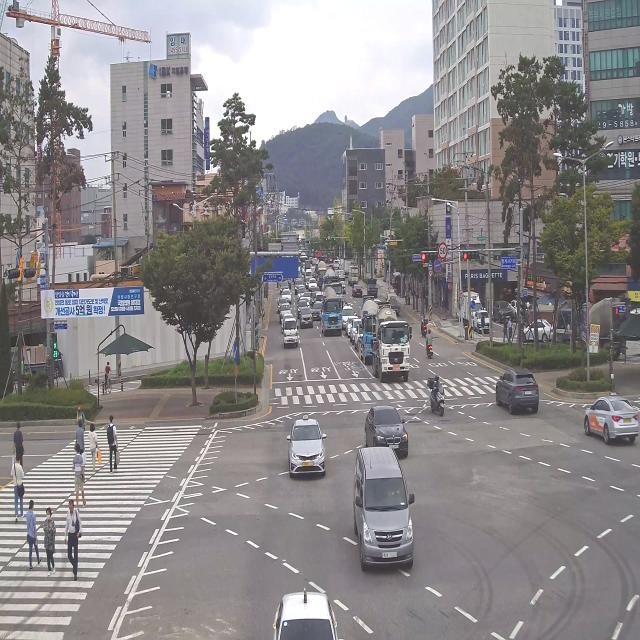Car: (346, 442, 420, 573), (263, 567, 349, 640), (350, 388, 414, 466), (588, 370, 640, 454), (283, 405, 334, 490), (496, 350, 542, 430), (522, 316, 554, 348), (296, 300, 315, 337), (491, 297, 513, 324), (473, 309, 493, 334), (509, 293, 526, 319), (350, 318, 363, 344), (346, 316, 360, 338), (341, 306, 355, 327), (280, 312, 294, 333), (354, 325, 364, 351), (311, 302, 323, 323), (350, 283, 363, 299), (280, 302, 292, 318), (281, 288, 293, 304), (299, 296, 310, 309), (315, 293, 326, 306), (308, 278, 318, 292), (305, 277, 315, 290), (278, 298, 288, 310), (302, 291, 312, 303), (312, 287, 322, 299), (280, 282, 289, 294), (296, 279, 304, 291), (338, 267, 346, 278), (332, 258, 339, 270), (284, 278, 292, 288), (297, 288, 305, 298), (342, 279, 346, 292)
Motorcycle: (426, 369, 450, 425), (424, 331, 437, 363), (419, 310, 430, 340)
Truck: (557, 294, 628, 364), (5, 330, 75, 386), (374, 300, 415, 384), (356, 298, 380, 365), (322, 288, 344, 337), (280, 313, 302, 359), (459, 288, 482, 330), (323, 267, 343, 305), (384, 290, 401, 317), (314, 257, 326, 289), (366, 276, 378, 301), (347, 264, 359, 285), (342, 258, 353, 279), (305, 267, 312, 279), (339, 257, 344, 270)
